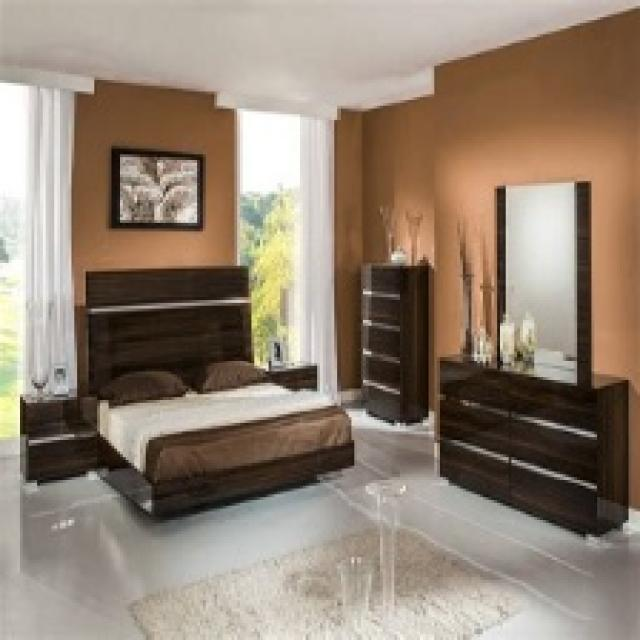Bed: (77, 263, 354, 520)
